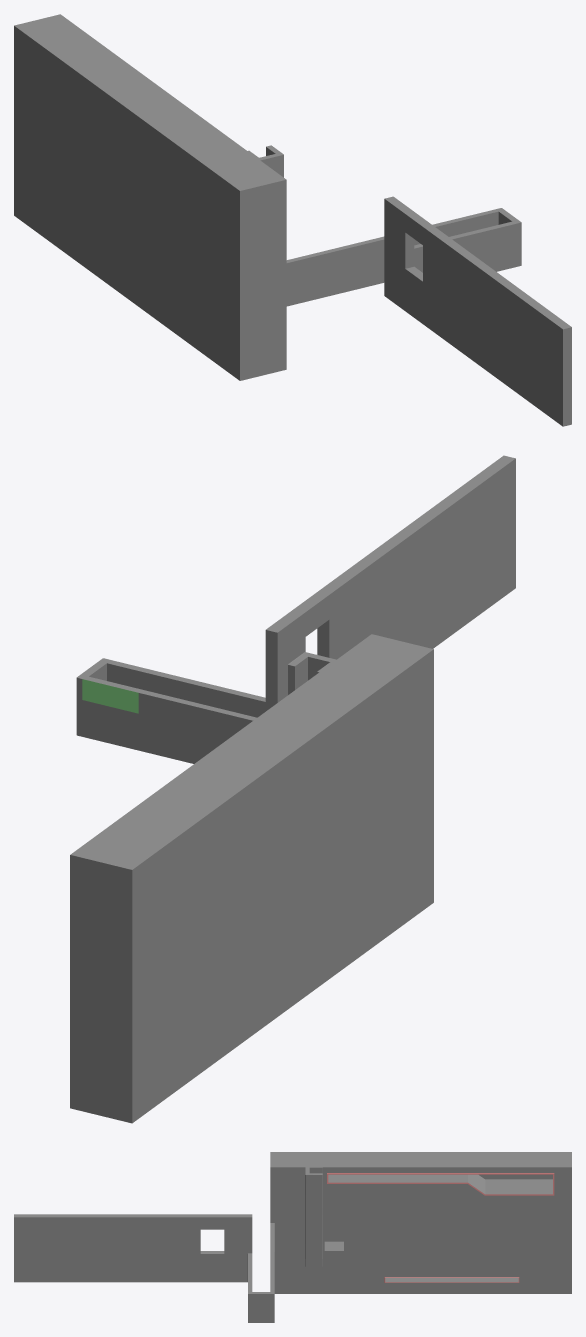
File: S_Envi_FZFBase_Wall_02w.gltf
The picture shows the model from 3 angles, top to bottom: view 1: azimuth 30°, elevation 25°; view 2: azimuth 150°, elevation 25°; view 3: azimuth 270°, elevation 25°; orthographic projection. The views are drawn at different scales.
Parts seen in each view (by area): view 1: S_Envi_FZFBase_Wall_02w; view 2: S_Envi_FZFBase_Wall_02w; view 3: S_Envi_FZFBase_Wall_02w.
Part boxes in pixels (x1,y1,x2,y2): S_Envi_FZFBase_Wall_02w: (14,14,571,426); S_Envi_FZFBase_Wall_02w: (70,455,515,1123); S_Envi_FZFBase_Wall_02w: (14,1152,571,1322).
Bounding box in the file's own units: 23.33 × 16 × 63.83.
